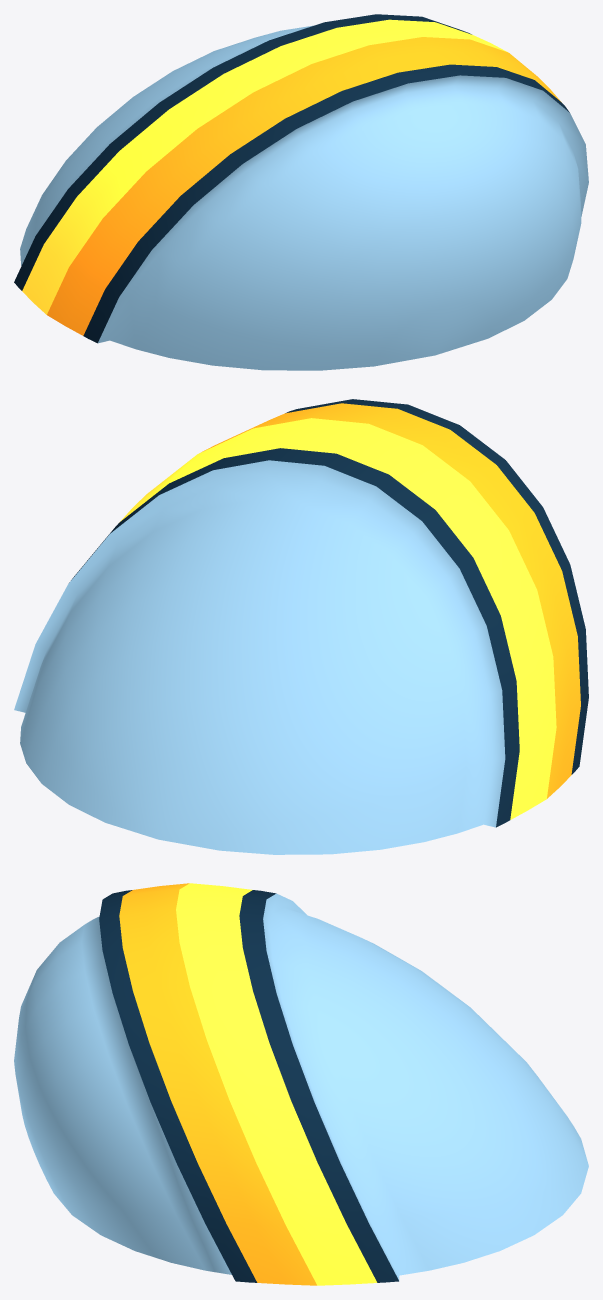
The model's file is shot_microbomb_272.glb.
3 renders of one model, top to bottom at view 1: azimuth 30°, elevation 25°; view 2: azimuth 150°, elevation 25°; view 3: azimuth 270°, elevation 25°, orthographic. The views are drawn at different scales.
Parts seen in each view (by area): view 1: mb_ball; view 2: mb_ball; view 3: mb_ball.
Part boxes in pixels (x1,y1,x2,y2): mb_ball: [14, 14, 588, 370]; mb_ball: [14, 399, 588, 854]; mb_ball: [14, 883, 588, 1285].
Bounding box in the file's own units: 10.84 × 5.42 × 11.01.
